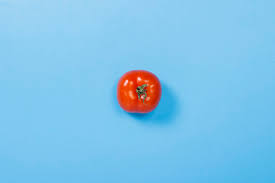tomato: (117, 69, 163, 113)
